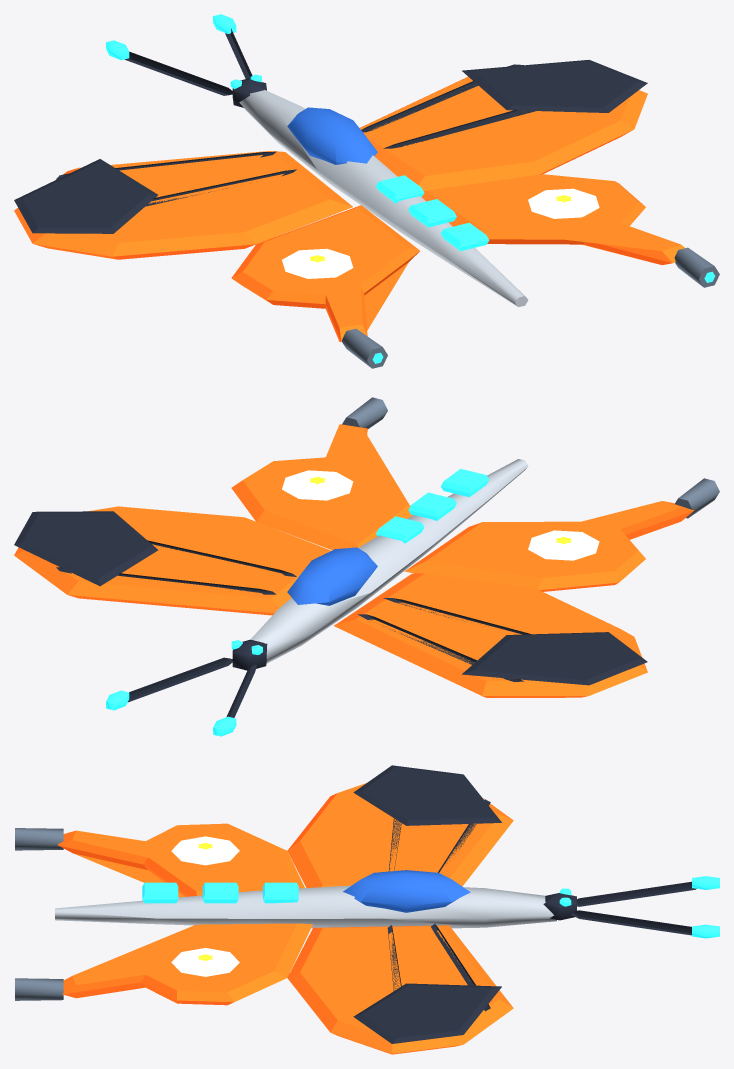
File: player_butterfly_monarch.glb
3 views of the same model, one above another, from view 1: azimuth 30°, elevation 25°; view 2: azimuth 150°, elevation 25°; view 3: azimuth 270°, elevation 25° (orthographic). The views are drawn at different scales.
Parts seen in each view (by area): view 1: PLAYER // SWALLOWTAIL MONARCH; view 2: PLAYER // SWALLOWTAIL MONARCH; view 3: PLAYER // SWALLOWTAIL MONARCH.
Boxes of the visible parts, box(x1,y1,x2,y2) form: PLAYER // SWALLOWTAIL MONARCH: box(14, 14, 719, 368); PLAYER // SWALLOWTAIL MONARCH: box(14, 397, 719, 736); PLAYER // SWALLOWTAIL MONARCH: box(15, 765, 719, 1054).
Bounding box in the file's own units: 3.91 × 0.3229 × 4.18.
